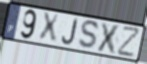9: (20, 9, 39, 41)
J: (61, 18, 79, 46)
S: (77, 19, 101, 51)
X: (95, 21, 123, 56), (38, 12, 61, 44)
Z: (117, 26, 142, 59)
